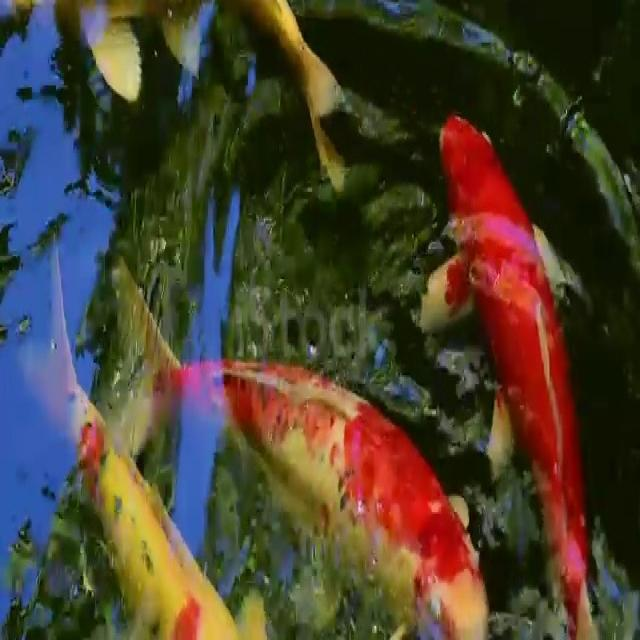fish: (133, 284, 495, 640), (9, 272, 280, 640), (422, 112, 613, 631), (68, 0, 372, 199)
